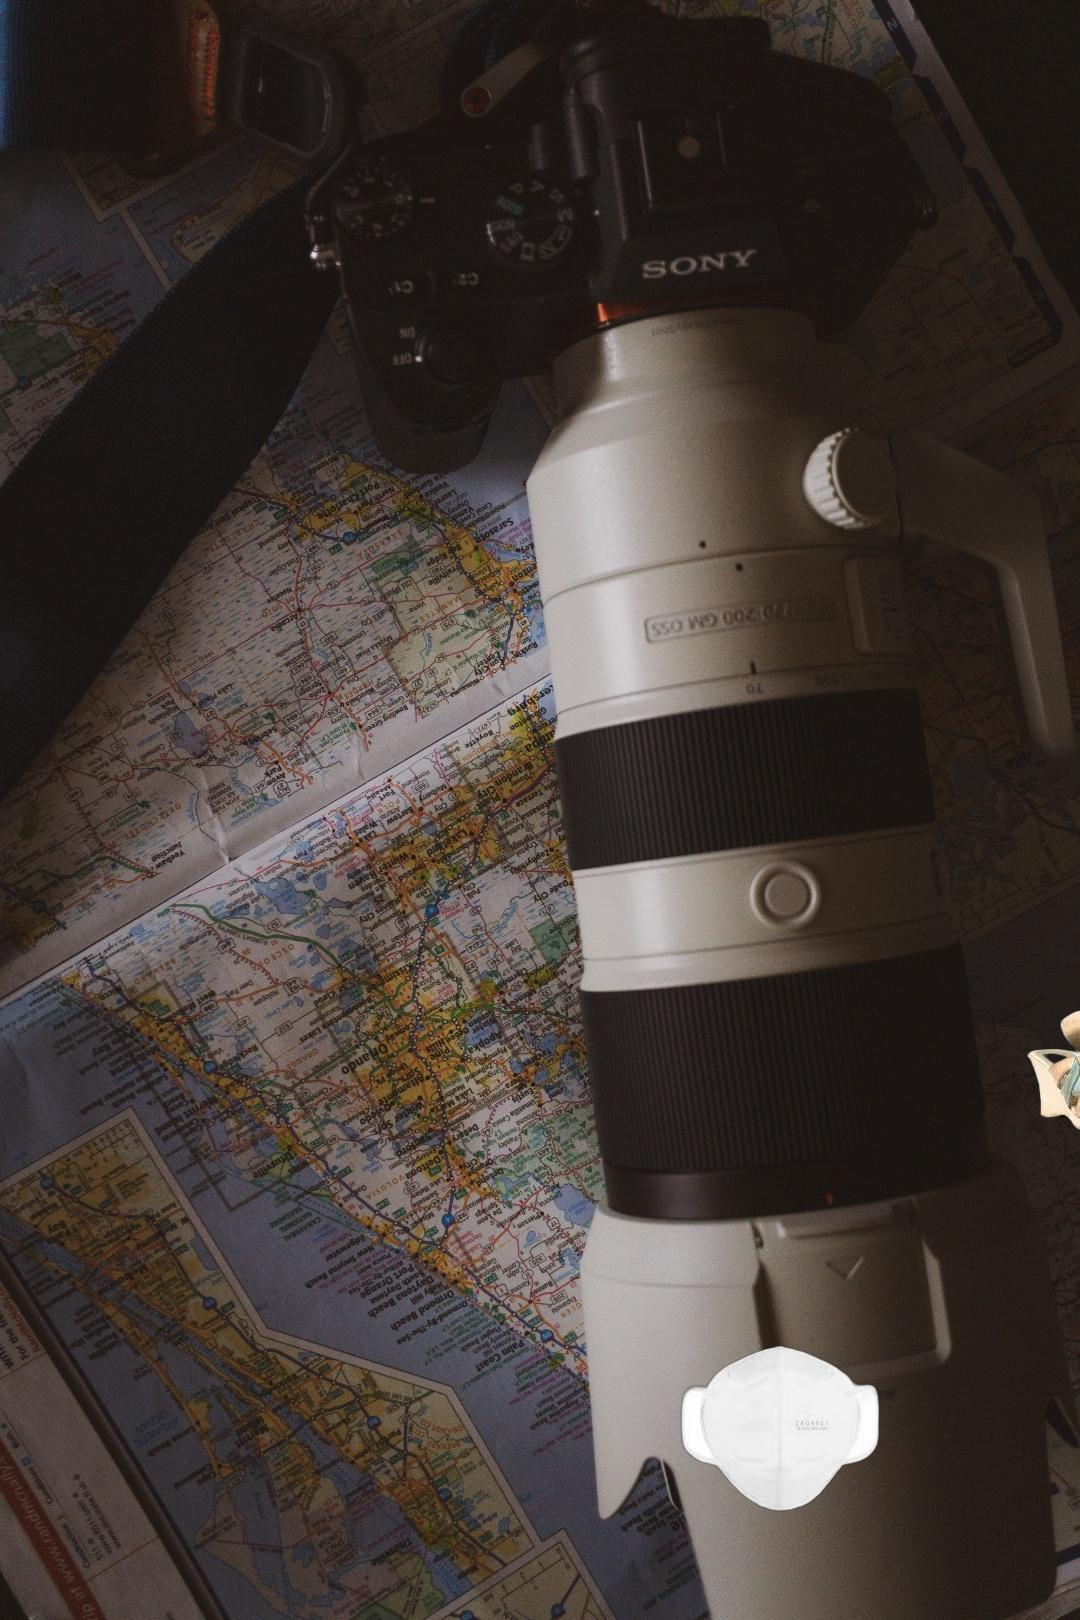shoes: (1025, 996, 1080, 1137)
trash: (677, 1343, 884, 1514)
